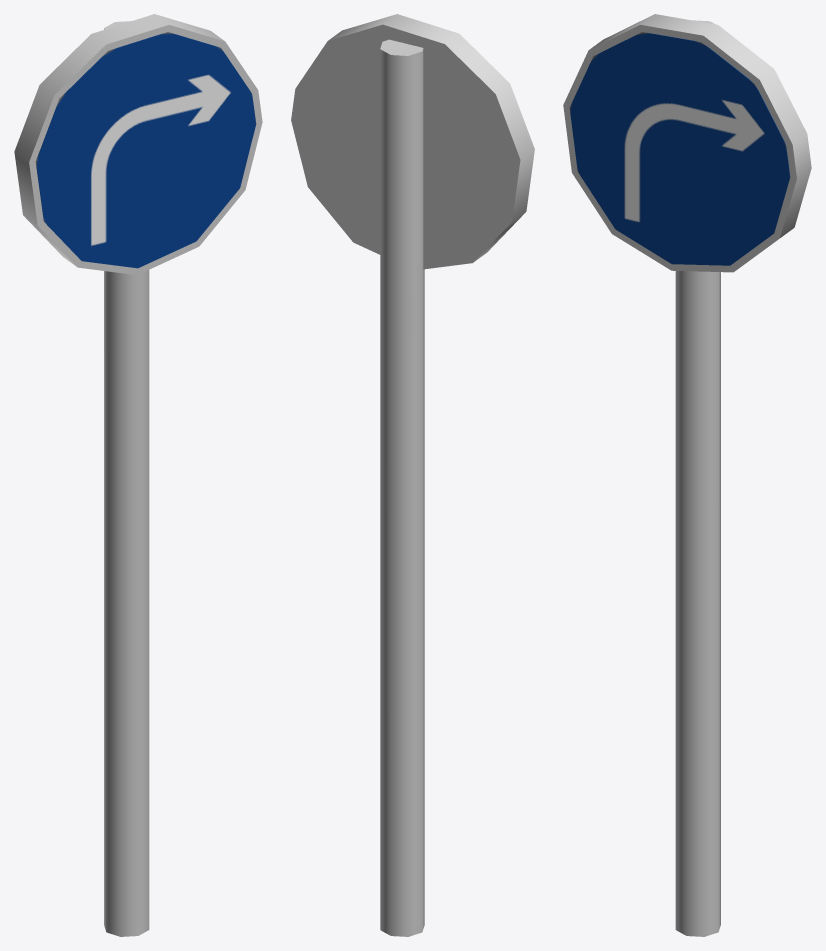
Rendered from ALLT(R).fbx.
The picture shows the model from 3 angles, left to right: view 1: azimuth 30°, elevation 25°; view 2: azimuth 150°, elevation 25°; view 3: azimuth 330°, elevation 25°; orthographic projection.
Parts seen in each view (by area): view 1: pasted__pasted__pasted__group27_pasted__pasted__pasted__past; view 2: pasted__pasted__pasted__group27_pasted__pasted__pasted__past; view 3: pasted__pasted__pasted__group27_pasted__pasted__pasted__past.
Boxes of the visible parts, x1,y1,x2,y2 form: pasted__pasted__pasted__group27_pasted__pasted__pasted__past: (14, 14, 262, 936); pasted__pasted__pasted__group27_pasted__pasted__pasted__past: (291, 14, 534, 936); pasted__pasted__pasted__group27_pasted__pasted__pasted__past: (563, 14, 811, 936).
Bounding box in the file's own units: 1.02 × 3.81 × 0.2327.
2 materials, 1 textured.
